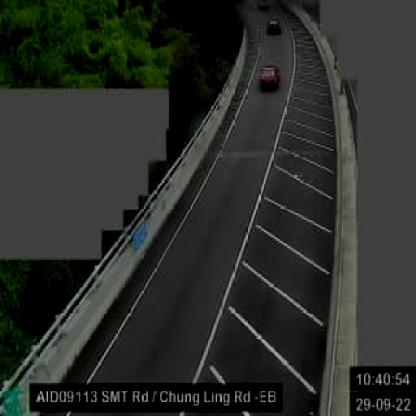Car: (256, 62, 282, 92), (265, 16, 282, 38)
